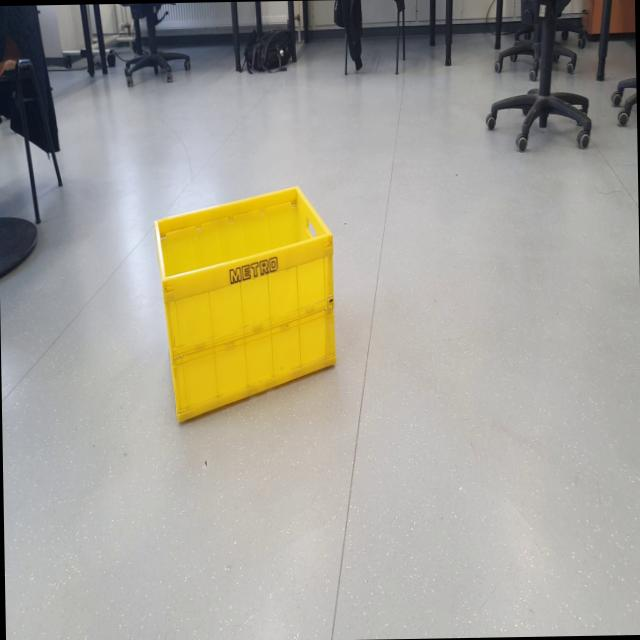box: (136, 180, 352, 430)
